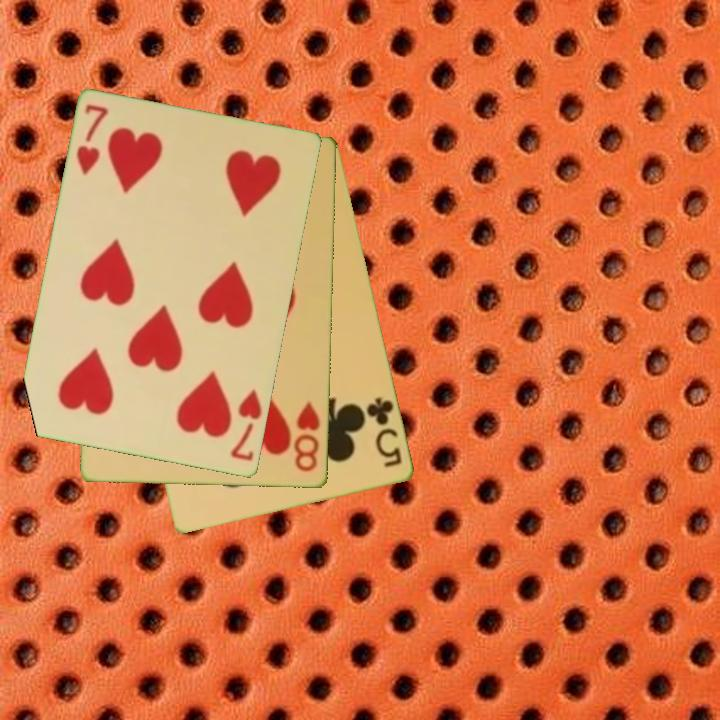5c: (363, 394, 406, 471)
7h: (227, 386, 265, 464), (73, 101, 111, 179)
8h: (291, 398, 323, 475)
